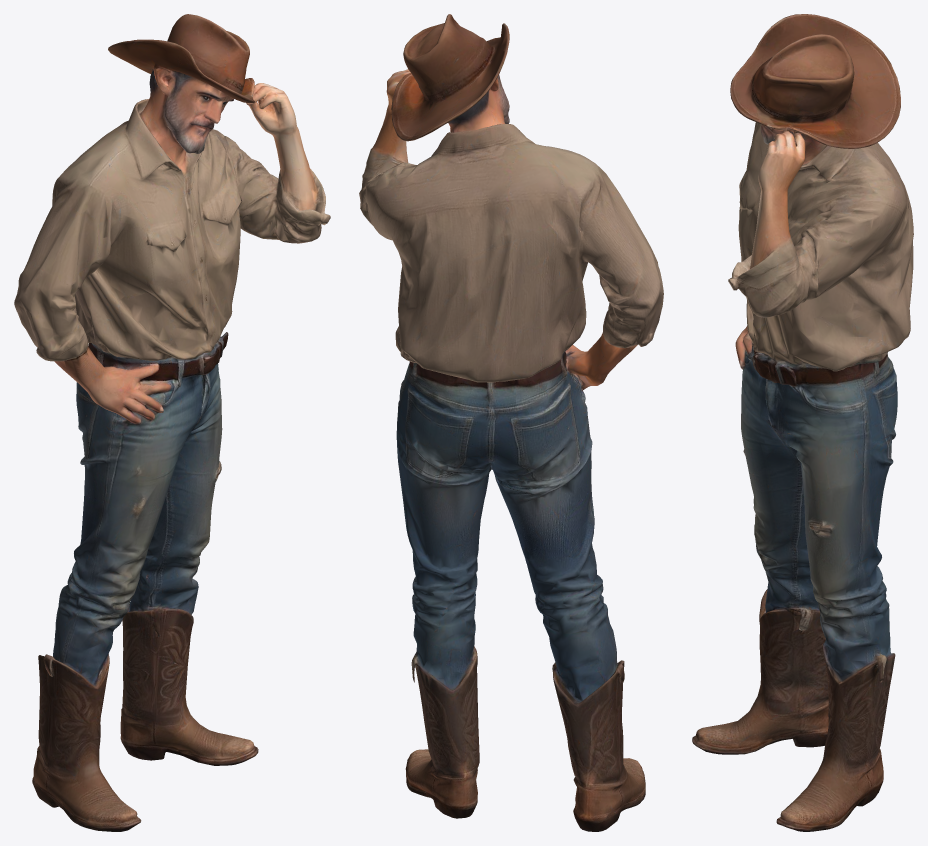
Rendered from cowboy.glb.
The picture shows the model from 3 angles, left to right: view 1: azimuth 30°, elevation 25°; view 2: azimuth 150°, elevation 25°; view 3: azimuth 270°, elevation 25°; orthographic projection. The views are drawn at different scales.
Parts seen in each view (by area): view 1: Object_5; view 2: Object_5; view 3: Object_5.
Boxes of the visible parts, x1,y1,x2,y2 form: Object_5: (14, 14, 330, 831); Object_5: (359, 14, 663, 831); Object_5: (692, 14, 913, 831).
Size of the model in its own units: 0.7731 by 1.9 by 0.4888.
1 material, 1 textured.
